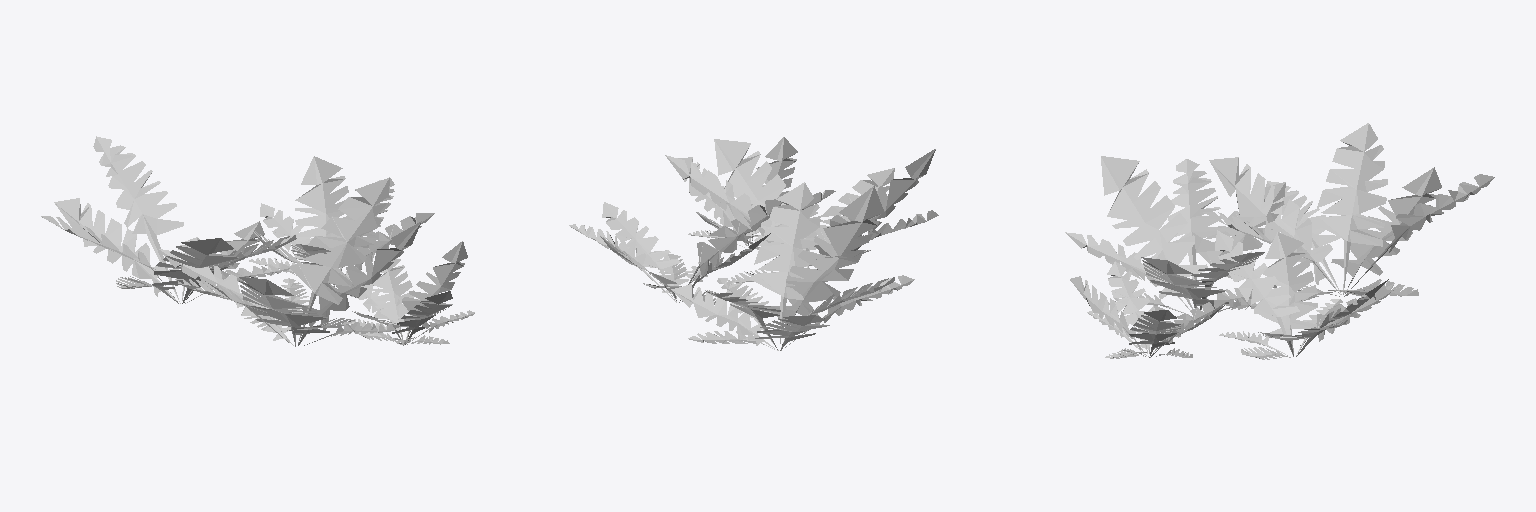
The model's file is fern_3.obj.
3 views of the same model, side by side, from view 1: azimuth 30°, elevation 25°; view 2: azimuth 150°, elevation 25°; view 3: azimuth 270°, elevation 25° (orthographic).
Parts seen in each view (by area): view 1: fern.004, fern.002, fern.001; view 2: fern.002, fern.004, fern.001; view 3: fern.004, fern.002, fern.001.
Boxes of the visible parts, x1=… form: fern.004: x1=159, y1=156, x2=434, y2=346; fern.002: x1=41, y1=136, x2=296, y2=303; fern.001: x1=346, y1=241, x2=474, y2=345; fern.002: x1=671, y1=182, x2=914, y2=350; fern.004: x1=569, y1=139, x2=938, y2=304; fern.001: x1=678, y1=137, x2=835, y2=249; fern.004: x1=1065, y1=156, x2=1393, y2=359; fern.002: x1=1203, y1=123, x2=1494, y2=301; fern.001: x1=1070, y1=261, x2=1227, y2=358.
Bounding box in the file's own units: 6.63 × 2.27 × 7.18.